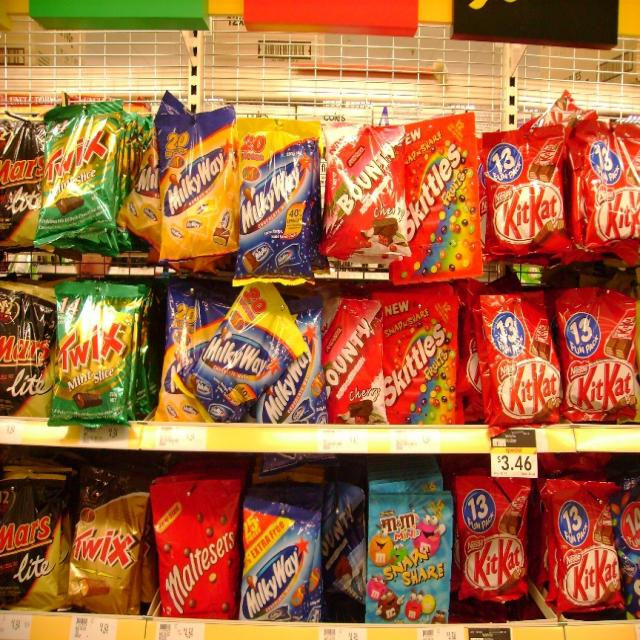q280: (541, 472, 627, 631), (472, 274, 552, 444), (484, 124, 574, 268), (452, 467, 538, 608), (576, 110, 640, 278), (561, 286, 640, 419)
